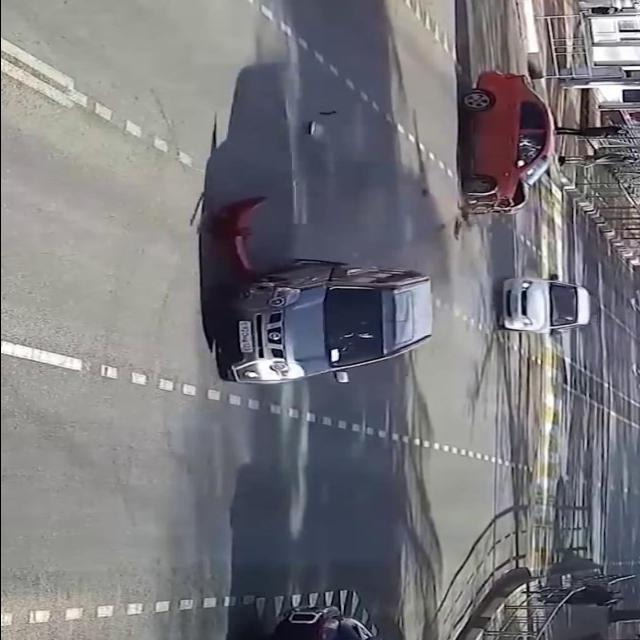accident: (207, 191, 451, 393), (451, 68, 585, 220)
